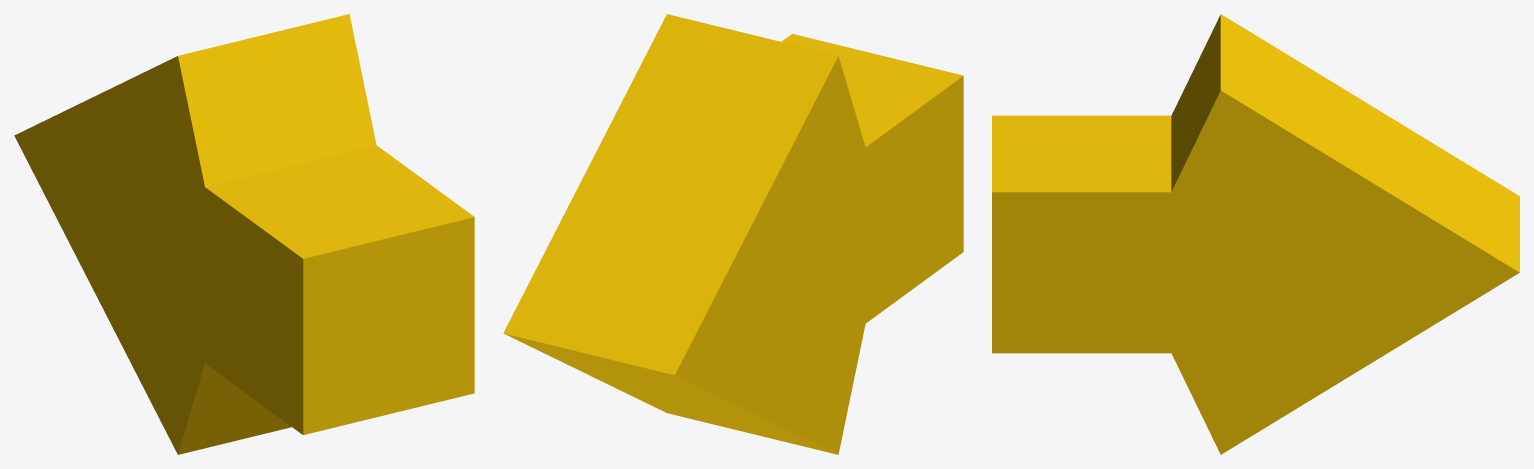
Rendered from Seta.fbx.
3 renders of one model, left to right at view 1: azimuth 30°, elevation 25°; view 2: azimuth 150°, elevation 25°; view 3: azimuth 270°, elevation 25°, orthographic. The views are drawn at different scales.
Parts seen in each view (by area): view 1: Seta; view 2: Seta; view 3: Seta.
Part boxes in pixels (<box>): Seta: <box>14,14,474,454</box>; Seta: <box>503,14,963,454</box>; Seta: <box>992,14,1519,454</box>.
Bounding box in the file's own units: 6.82 × 15.16 × 19.89.
